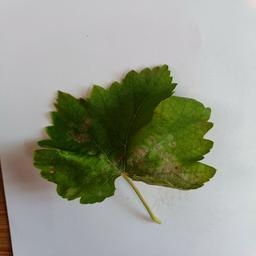Powdery-Mildew: (131, 137, 196, 187), (59, 148, 112, 174), (72, 125, 89, 142), (159, 101, 175, 117), (185, 137, 201, 153)
